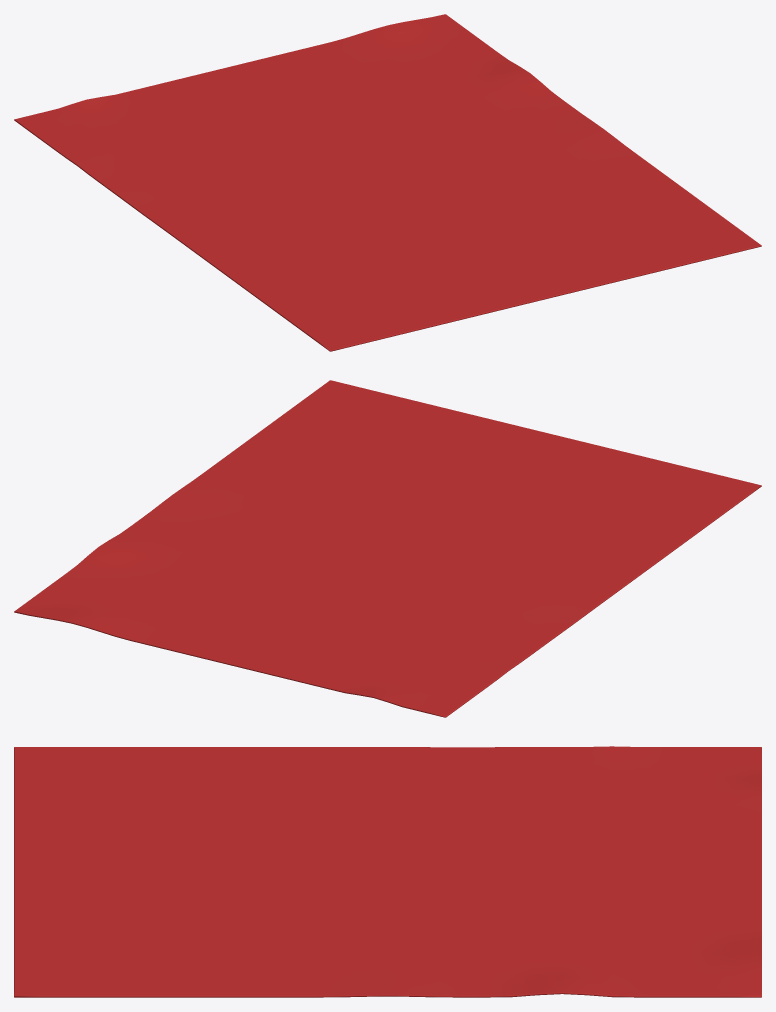
The model's file is Carpet.FBX.
The picture shows the model from 3 angles, top to bottom: view 1: azimuth 30°, elevation 25°; view 2: azimuth 150°, elevation 25°; view 3: azimuth 270°, elevation 25°; orthographic projection. The views are drawn at different scales.
Visible parts, largest first — view 1: carpet; view 2: carpet; view 3: carpet.
Part boxes in pixels (x1,y1,x2,y2): carpet: [14, 14, 761, 351]; carpet: [14, 380, 761, 717]; carpet: [14, 746, 761, 997].
Size of the model in its own units: 1851 by 2347 by 18.62.
